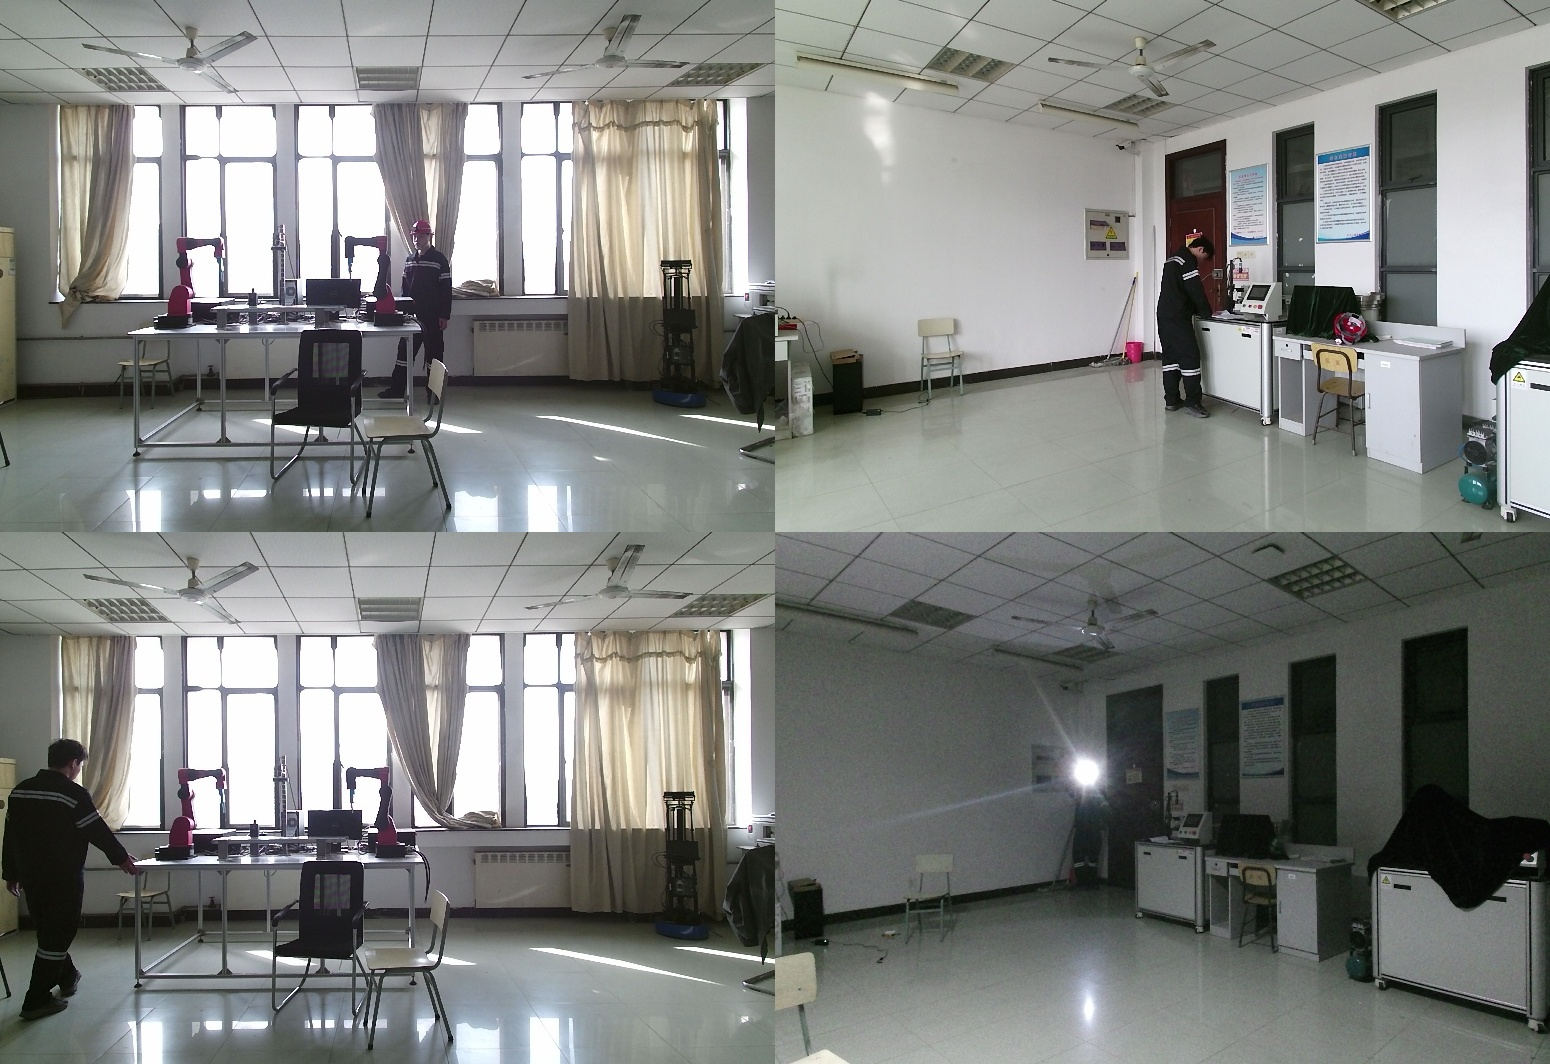person: (1, 738, 140, 1015), (1159, 239, 1218, 420), (396, 222, 444, 409), (1063, 768, 1108, 886)
